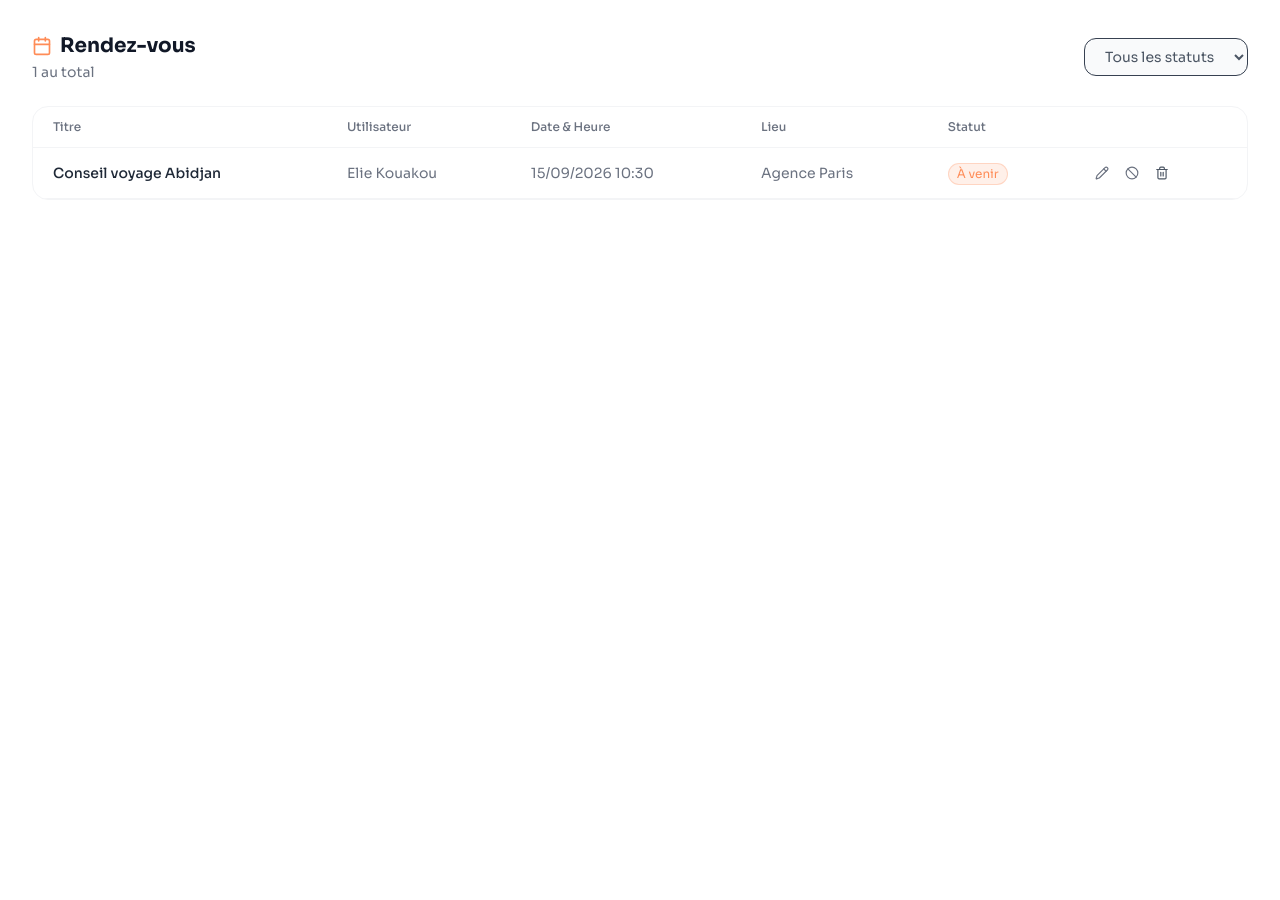
Test: AdminAppointmentsPage › ouvre une fenêtre de modification accessible
What coordinates should you click on to do the following:
click the button titled "Modifier"
I would click on:
 (1102, 173)
Its box is 1089,160 -> 1115,186.
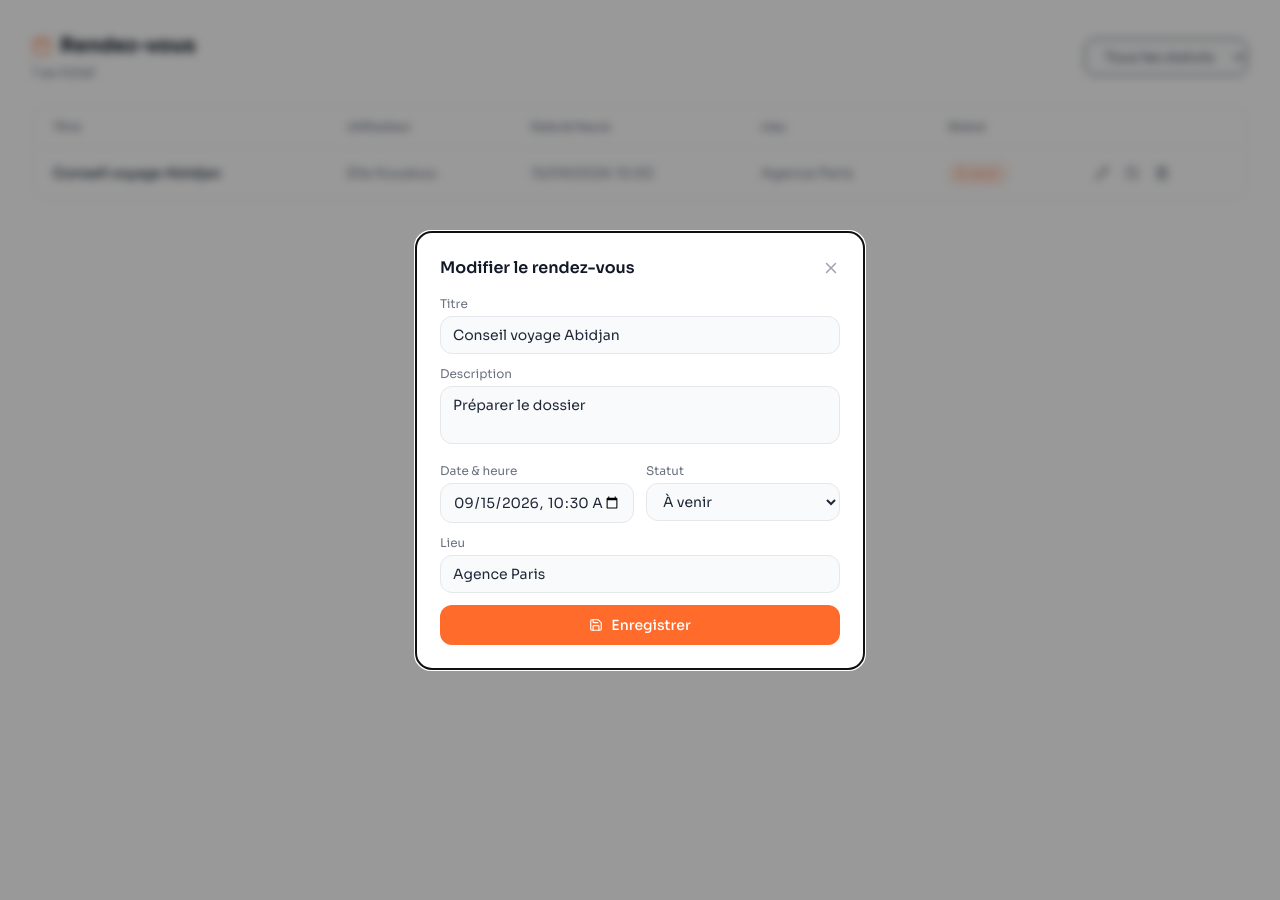
Expected: the 1st field showing "Conseil voyage Abidjan" is shown, 440,316 -> 840,354
Expected: the button named "Fermer la fenêtre de modification" is shown, 822,258 -> 840,276
